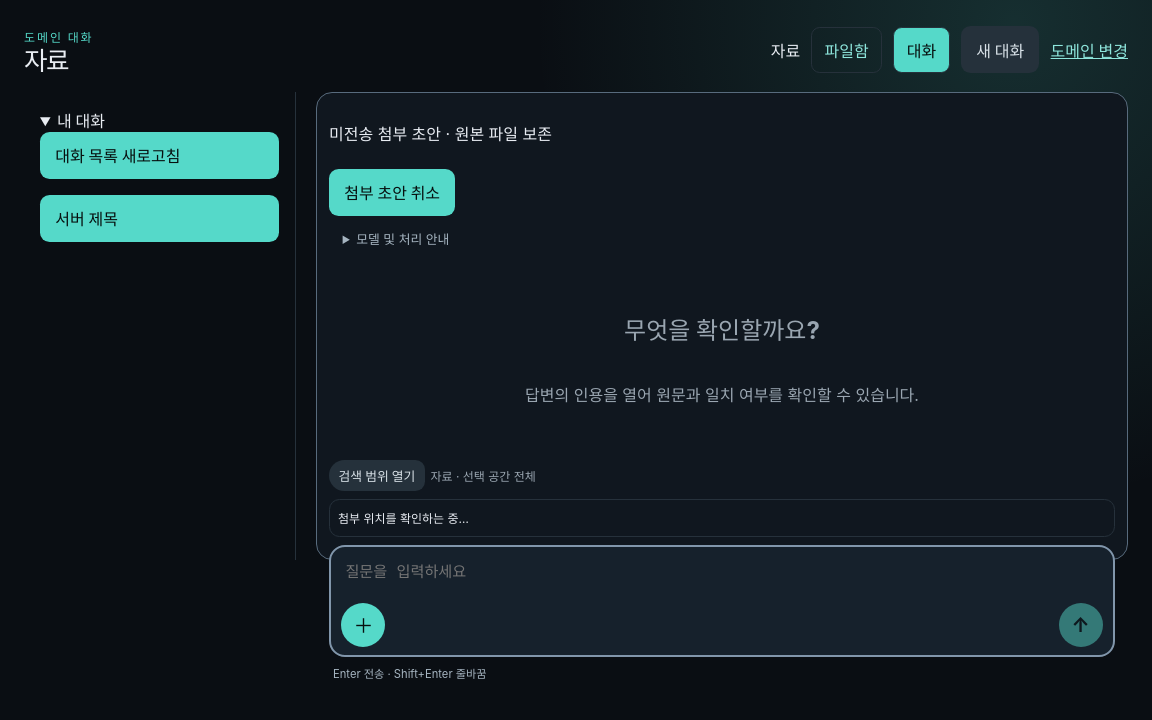
Test: F5 attributes deferred rejection abandon failure only to its initiating empty screen (replacement selected=false)
The width and height of the screenshot is (1152, 720).
Check: the text "미전송 첨부 초안 · 원본 파일 보존" is shown, box [329,124,552,144]
Type "첫 질문" into the text box labelled "질문" at (722, 575), box [341,555,1103,595]
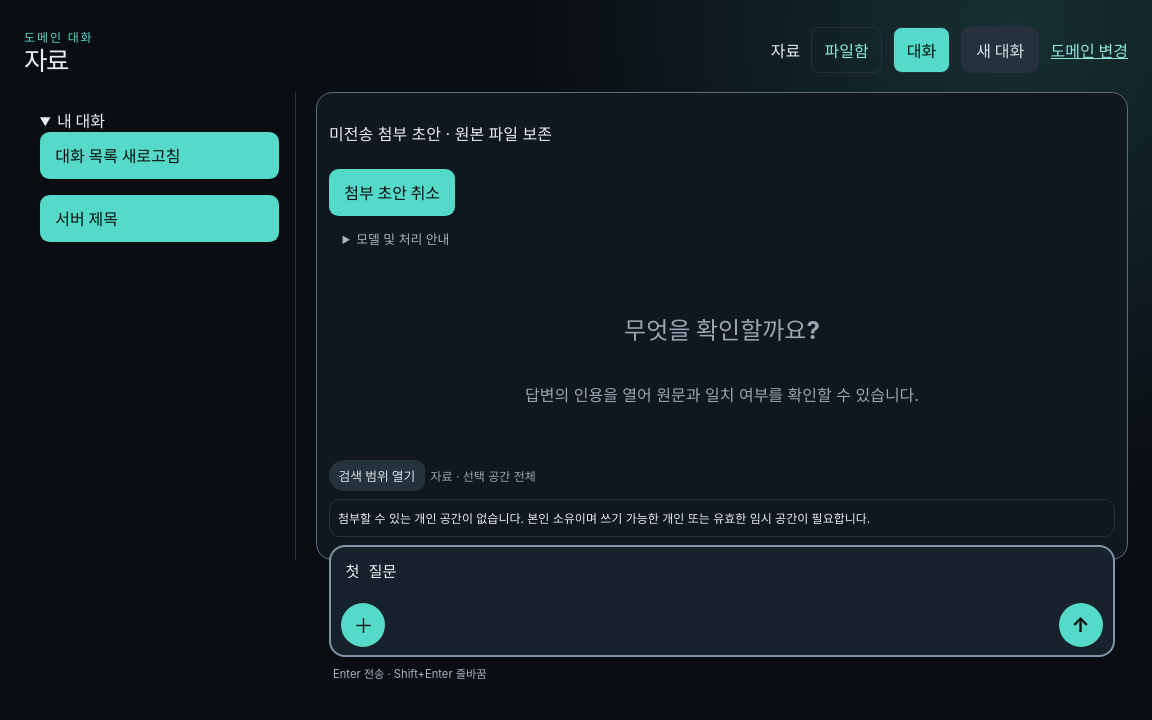
Click the button named "질문 보내기" at (1081, 625), box [1059,603,1103,647]
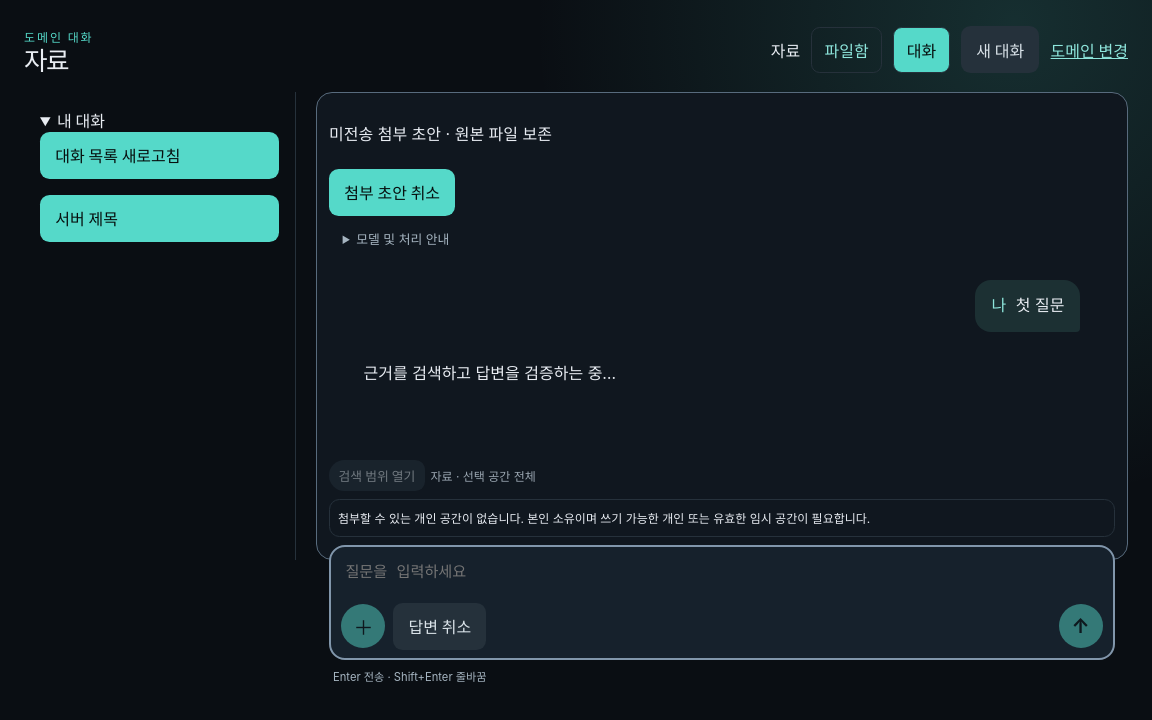
Click the button "새 대화" at (1000, 50), box [961,26,1039,73]
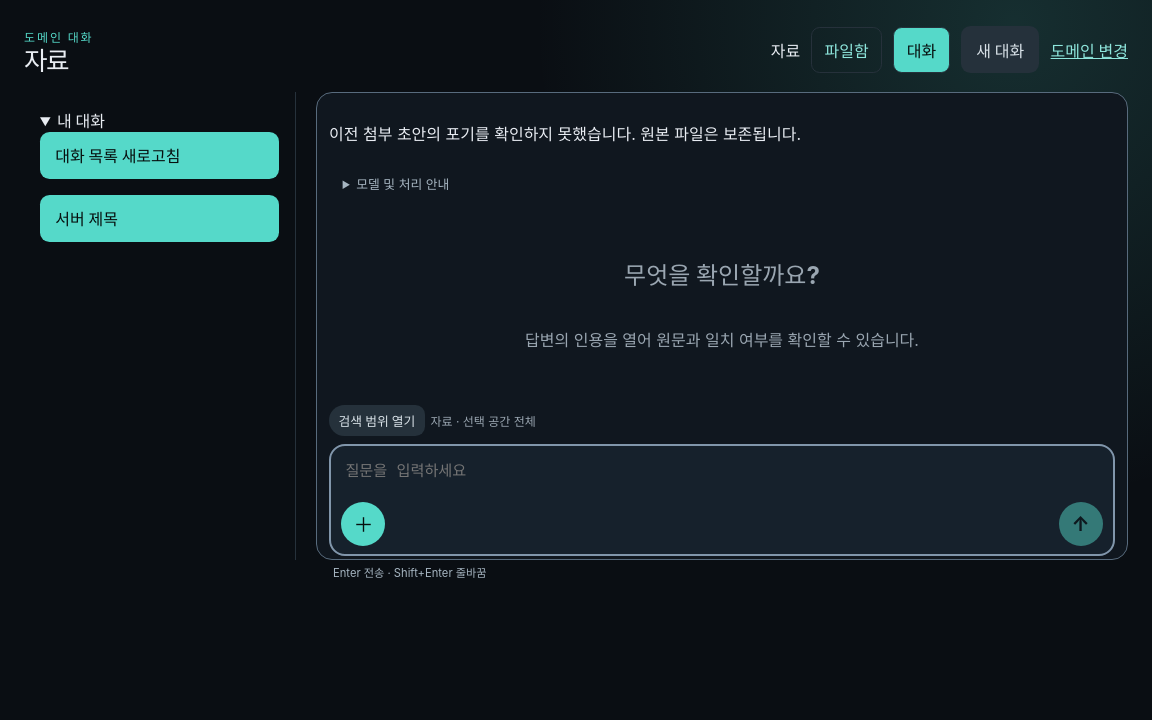
Check: the text "이전 첨부 초안의 포기를 확인하지 못했습니다. 원본 파일은 보존됩니다." is shown, box [329,124,801,144]
